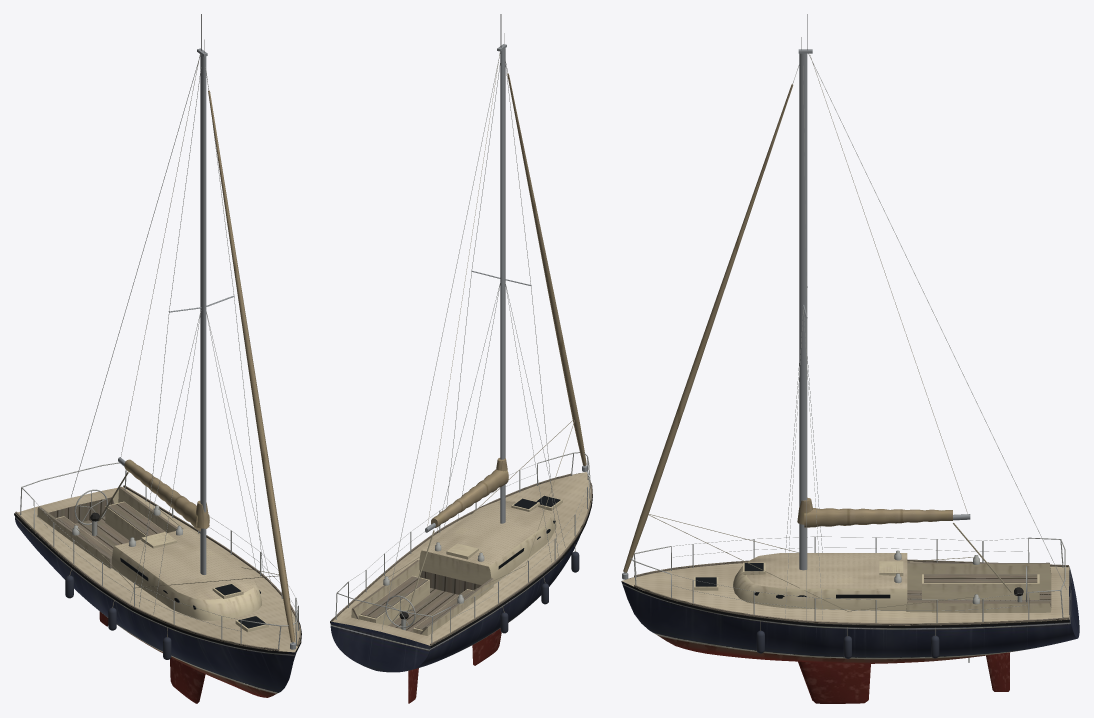
Rendered from sailYacht-b-lod0.glb.
3 renders of one model, left to right at view 1: azimuth 30°, elevation 25°; view 2: azimuth 150°, elevation 25°; view 3: azimuth 270°, elevation 25°, orthographic. The views are drawn at different scales.
Visible parts, largest first — view 1: Hull, Rig, Superstructure, Gear; view 2: Hull, Rig, Superstructure, Gear; view 3: Hull, Rig, Superstructure, Gear.
Part boxes in pixels (box(x1,y1,x2,y2)): Hull: box(14, 485, 301, 703); Rig: box(71, 14, 295, 649); Superstructure: box(56, 501, 268, 632); Gear: box(20, 462, 298, 659); Hull: box(330, 472, 592, 703); Rig: box(382, 14, 587, 629); Superstructure: box(358, 495, 562, 633); Gear: box(335, 452, 590, 642); Hull: box(621, 559, 1079, 703); Rig: box(622, 14, 1066, 619); Superstructure: box(694, 553, 1039, 610); Gear: box(629, 523, 1065, 658).
Size of the model in its own units: 3.81 by 17.45 by 10.52.
Materials: 1 (1 with a texture image).
